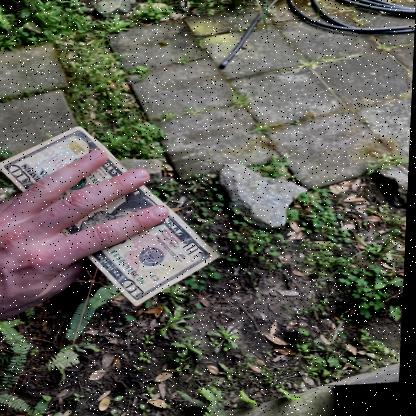ten-front: (0, 124, 223, 307)
